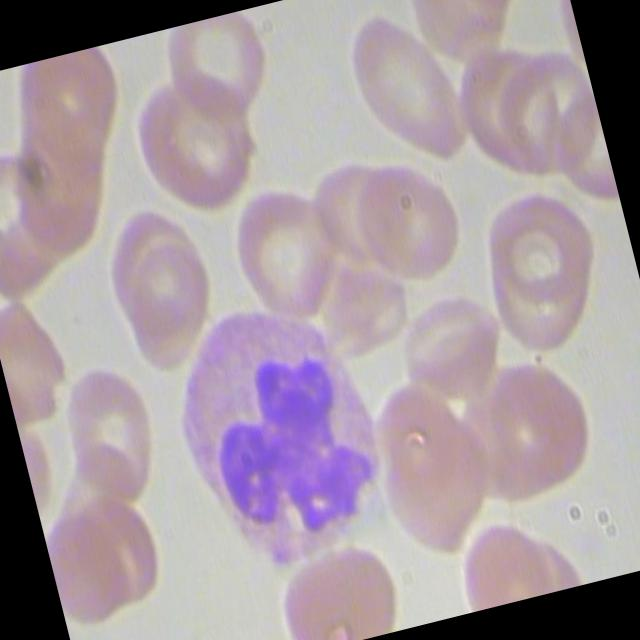RBC: (120, 48, 278, 226), (339, 0, 488, 181), (217, 173, 356, 336), (481, 22, 612, 191), (48, 348, 178, 518), (473, 182, 608, 326), (106, 226, 229, 378), (350, 147, 476, 289), (384, 280, 516, 406), (260, 531, 410, 640), (157, 5, 285, 132)
WBC: (151, 280, 412, 590)
